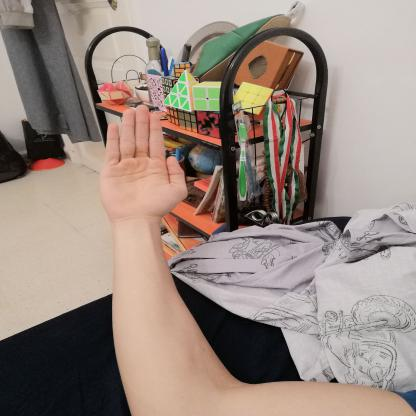SEEN: (89, 98, 194, 228)
